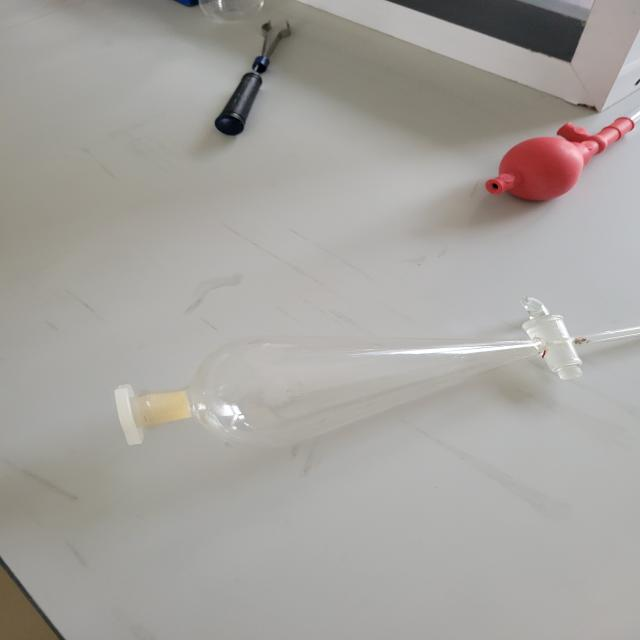Separating_Funnel: (89, 289, 640, 469)
